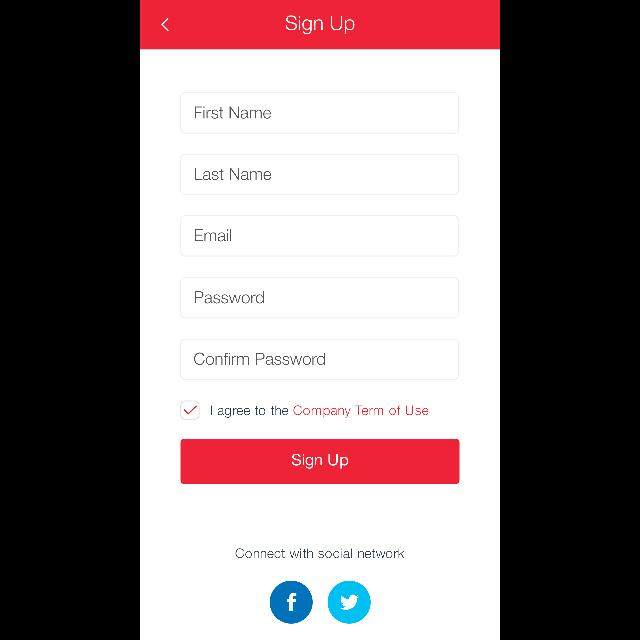checkbox: (180, 400, 200, 420)
icon: (270, 580, 312, 624), (328, 580, 370, 624), (161, 18, 169, 32)
input: (180, 92, 460, 134), (180, 154, 460, 196), (180, 338, 460, 379), (180, 216, 460, 256), (180, 278, 460, 318)
text: (211, 406, 429, 418), (194, 352, 326, 366), (236, 548, 404, 558), (286, 16, 354, 34), (195, 106, 271, 120), (195, 168, 271, 180), (196, 292, 264, 304), (194, 229, 232, 241)
textbutton: (180, 440, 460, 484)
